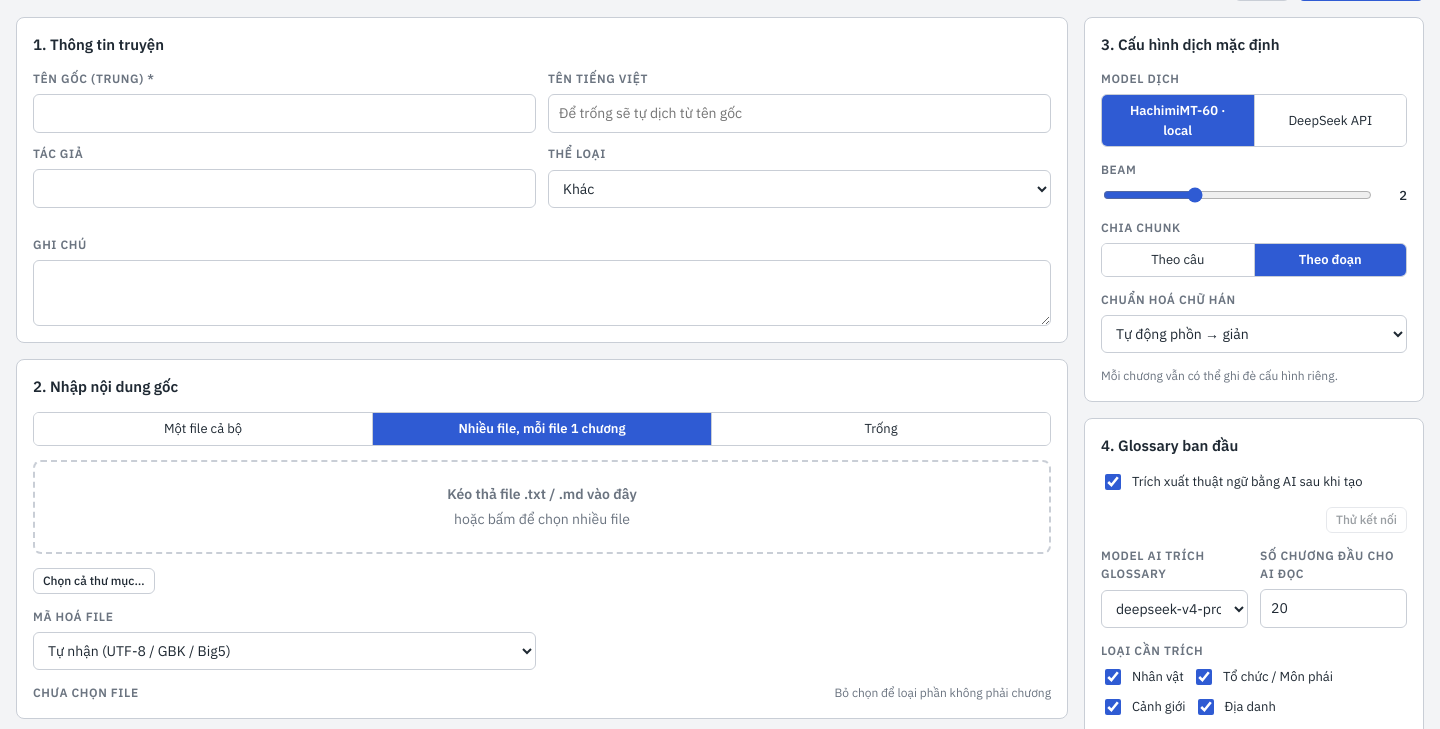
Scenario: slug cập nhật theo tên
The image size is (1440, 729).
Type "Đại Tống Hữu Chủng" into the field labelled "Tên tiếng Việt" at (800, 114), box [548,94,1051,133]
(page scrolled)
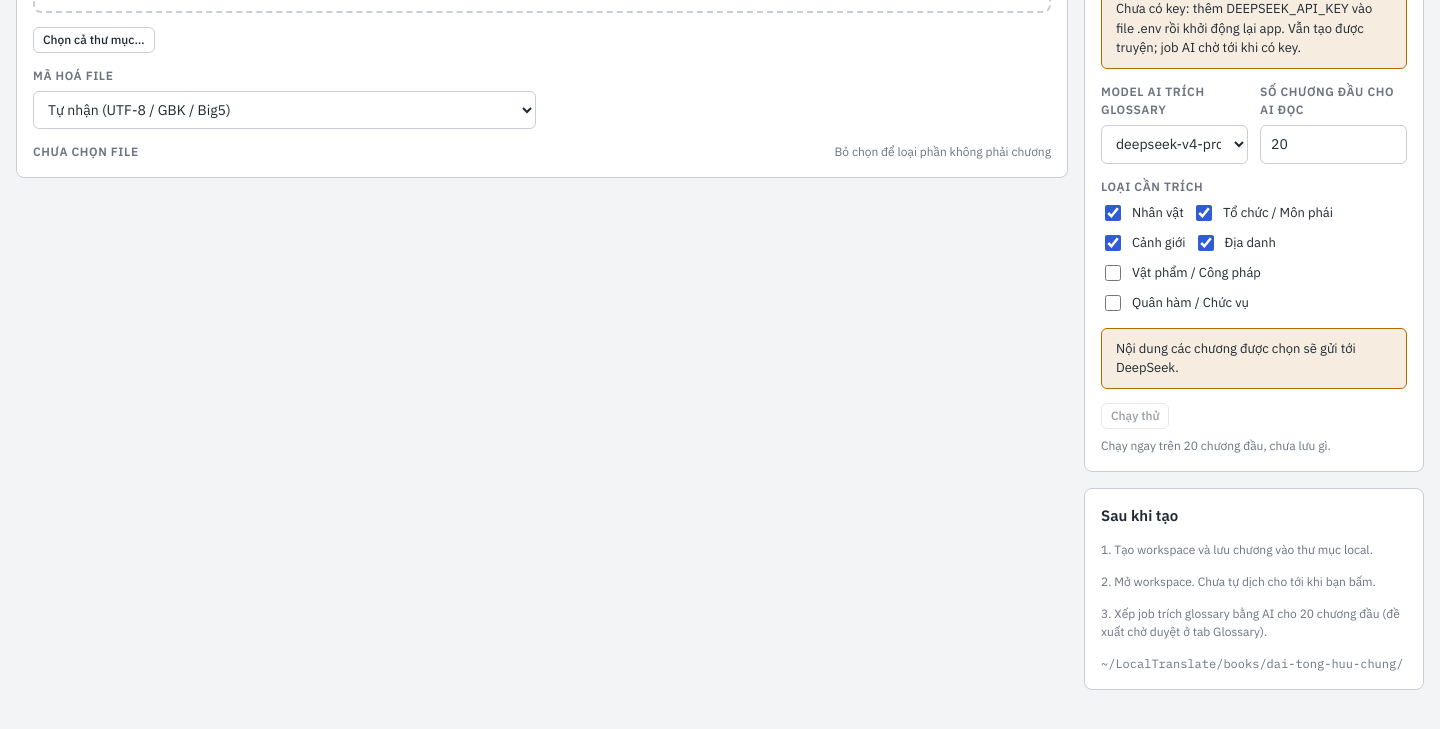
expect the text "~/LocalTranslate/books/dai-tong-huu-chung/" is shown: met, box [1101,655,1407,673]
